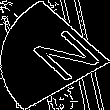N_SE: (12, 22, 98, 88)
